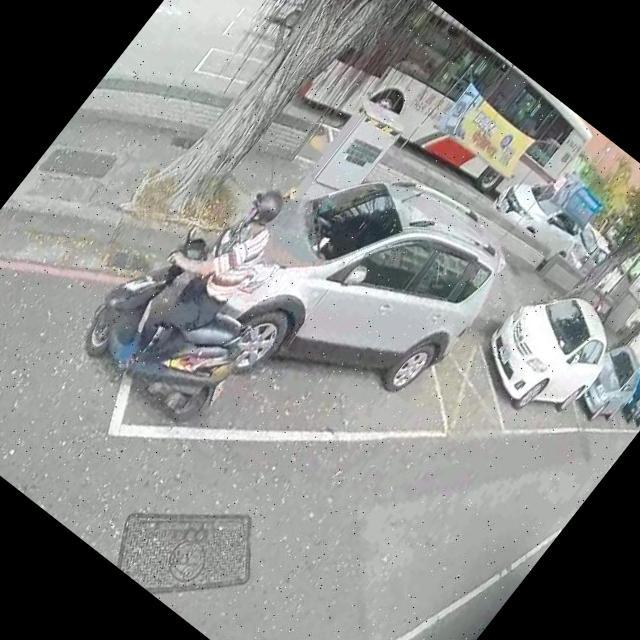person: (96, 154, 308, 392)
